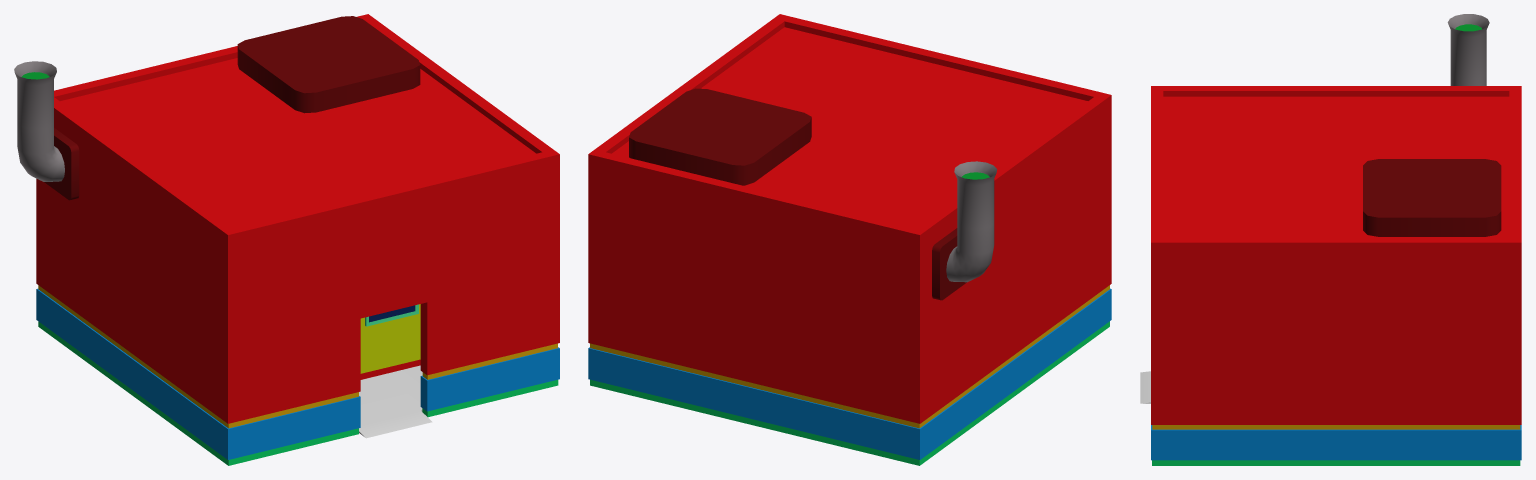
File: SbS_House_A2.fbx
3 views of the same model, side by side, from view 1: azimuth 30°, elevation 25°; view 2: azimuth 150°, elevation 25°; view 3: azimuth 270°, elevation 25° (orthographic). The views are drawn at different scales.
Parts seen in each view (by area): view 1: House_Roof, House_Wall, House_Floor, House_Separater; view 2: House_Roof, House_Wall; view 3: House_Roof, House_Wall.
Part boxes in pixels (x1,y1,x2,y2): House_Roof: [14, 14, 559, 350]; House_Wall: [36, 211, 559, 465]; House_Floor: [359, 365, 432, 438]; House_Separater: [360, 304, 420, 379]; House_Roof: [588, 14, 1111, 350]; House_Wall: [588, 211, 1111, 465]; House_Roof: [1151, 14, 1521, 354]; House_Wall: [1151, 354, 1521, 465].
Bounding box in the file's own units: 684 × 489 × 617.
